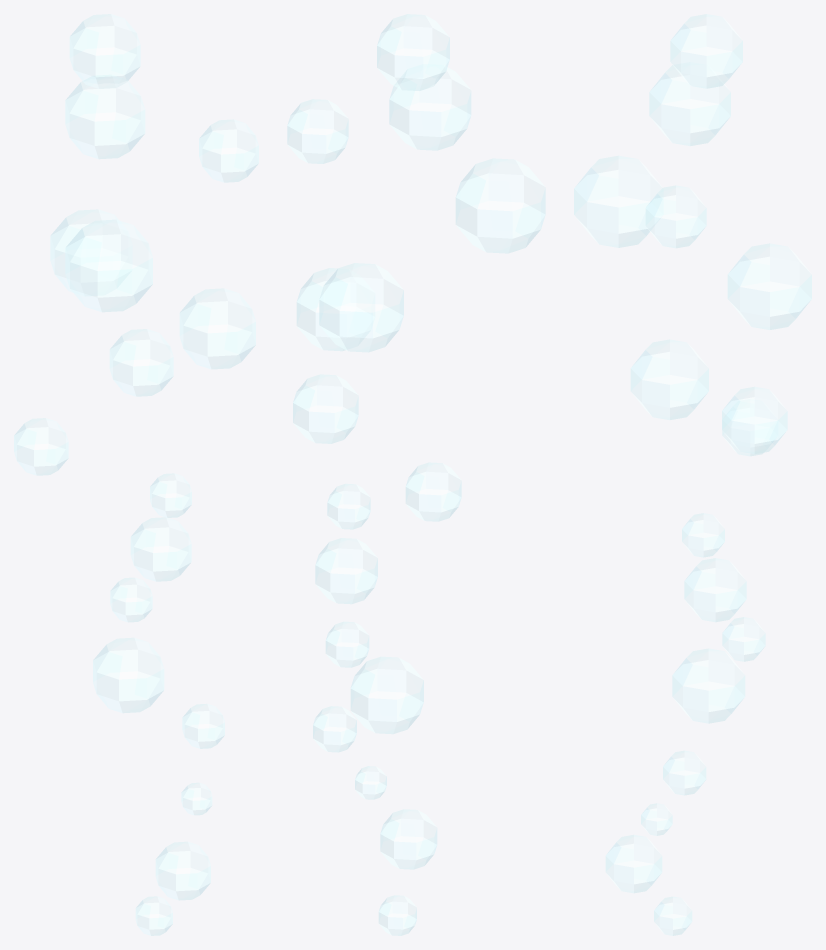
File: fx_bubble_cluster.glb
3 renders of one model, left to right at view 1: azimuth 30°, elevation 25°; view 2: azimuth 150°, elevation 25°; view 3: azimuth 270°, elevation 25°, orthographic. The views are drawn at different scales.
Visible parts, largest first — view 1: fx_bubble_cluster_glass; view 2: fx_bubble_cluster_glass; view 3: fx_bubble_cluster_glass.
Boxes of the visible parts, x1,y1,x2,y2 form: fx_bubble_cluster_glass: (14, 14, 258, 935); fx_bubble_cluster_glass: (287, 14, 545, 935); fx_bubble_cluster_glass: (574, 14, 811, 935).
Bounding box in the file's own units: 1.02 × 4.14 × 0.9902.
